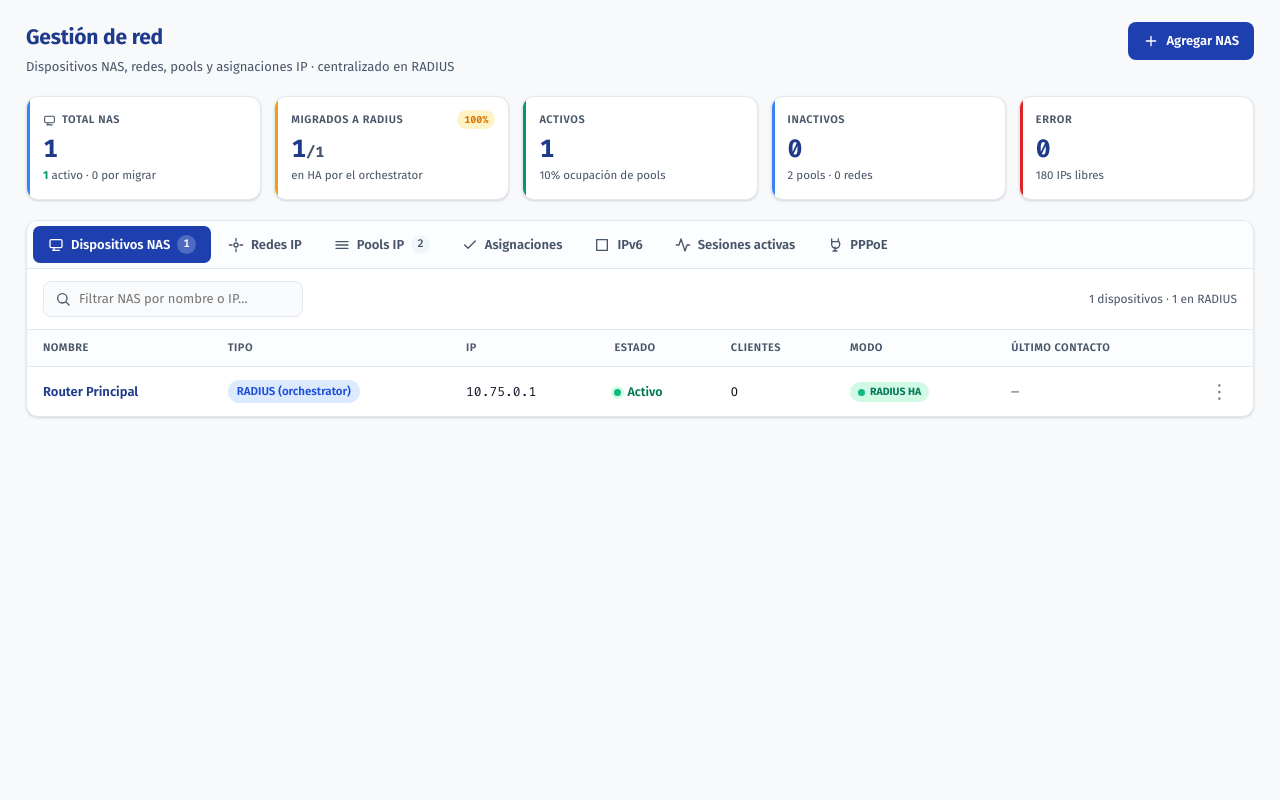
Test: GestionRedPage — Tab Pools IP › P-1: filtros FE › filtro por NAS muestra solo pools de ese NAS
Click the button "Pools IP 2" at coordinates (382, 245), box [319, 226, 445, 263]
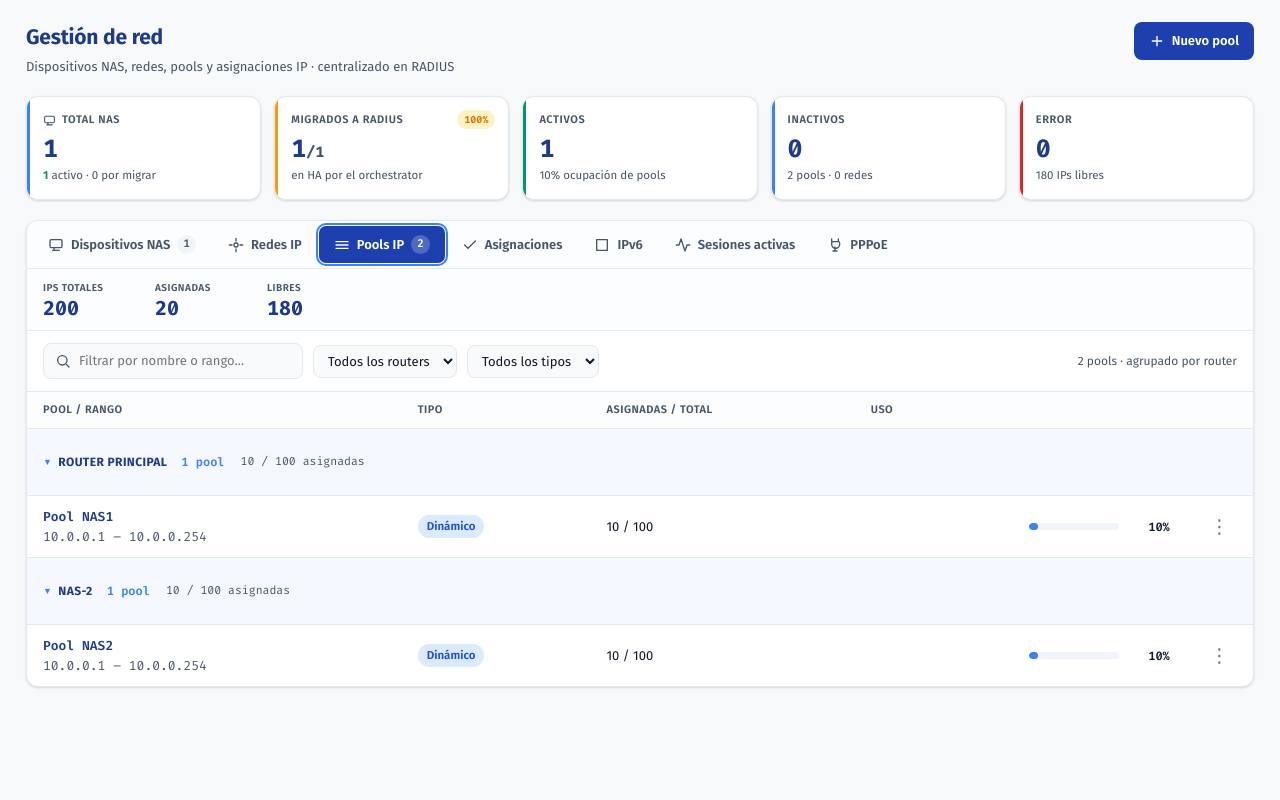
Select "Router Principal" in the dropdown named "Filtrar por router" at coordinates (385, 361), box [313, 344, 457, 378]
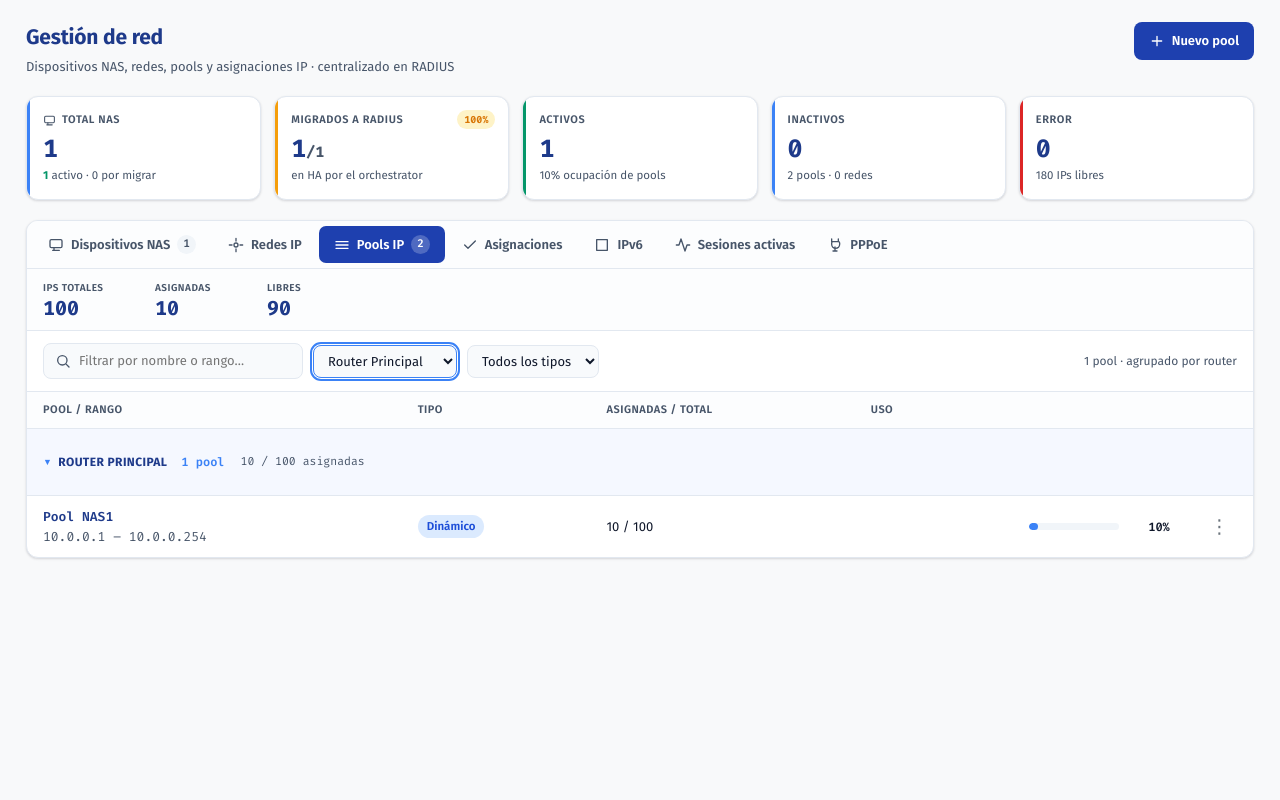
Expected: the text "Pool NAS1" is shown, [43, 508, 113, 525]
Expected: the text "Pool NAS2" is gone
